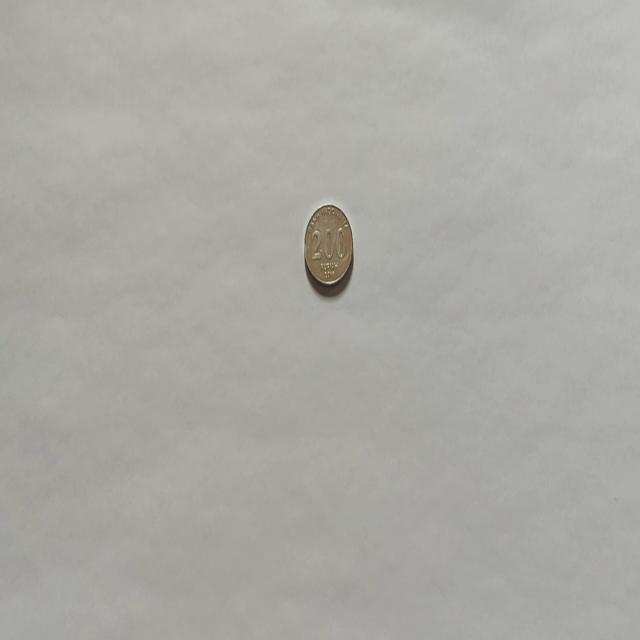dua ratus rupiah: (302, 202, 353, 288)
